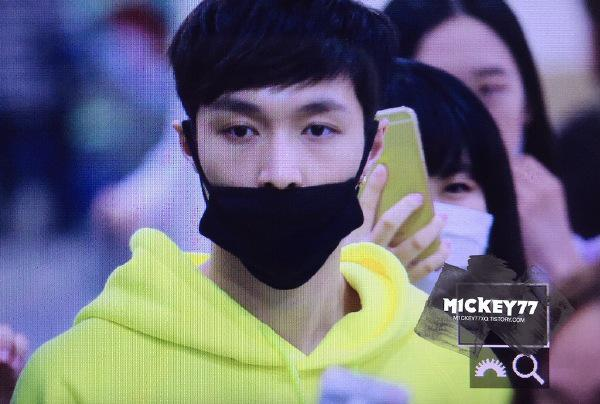OK: (354, 154, 495, 301)
WRONG: (195, 81, 365, 284)
